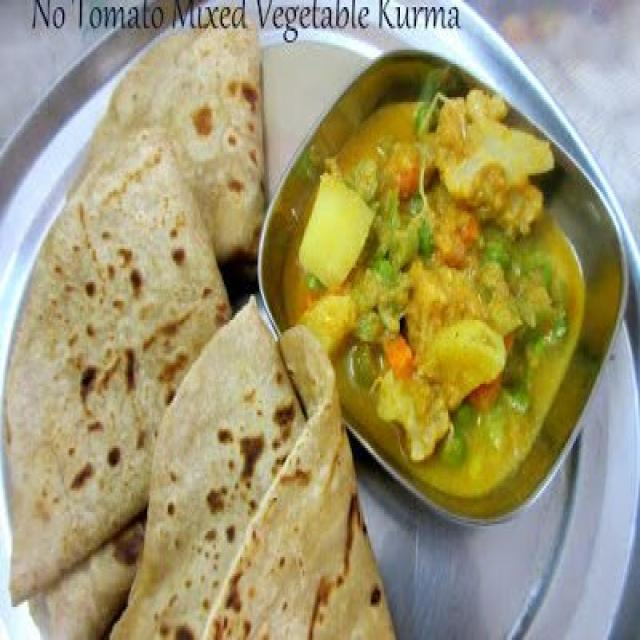chapathi: (0, 124, 221, 592), (112, 294, 406, 640), (60, 0, 279, 263)
